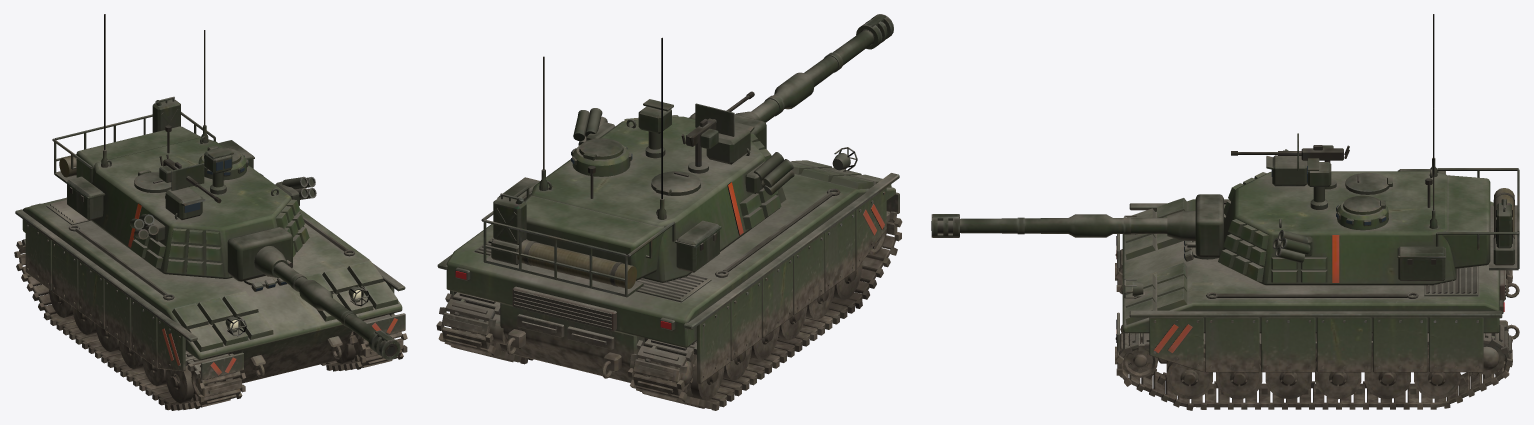
File: Weathered_Tank.fbx
3 renders of one model, left to right at view 1: azimuth 30°, elevation 25°; view 2: azimuth 150°, elevation 25°; view 3: azimuth 270°, elevation 25°, orthographic. The views are drawn at different scales.
Visible parts, largest first — view 1: Enemy_Tank_Mesh, Turret; view 2: Enemy_Tank_Mesh, Turret; view 3: Enemy_Tank_Mesh, Turret.
Part boxes in pixels (left/top/right/bottom): Enemy_Tank_Mesh: left=14, top=197, right=407, bottom=410; Turret: left=52, top=14, right=400, bottom=360; Enemy_Tank_Mesh: left=436, top=117, right=902, bottom=410; Turret: left=481, top=14, right=893, bottom=297; Enemy_Tank_Mesh: left=1115, top=198, right=1519, bottom=410; Turret: left=931, top=14, right=1519, bottom=285.
Bounding box in the file's own units: 2.24 × 2.97 × 5.
